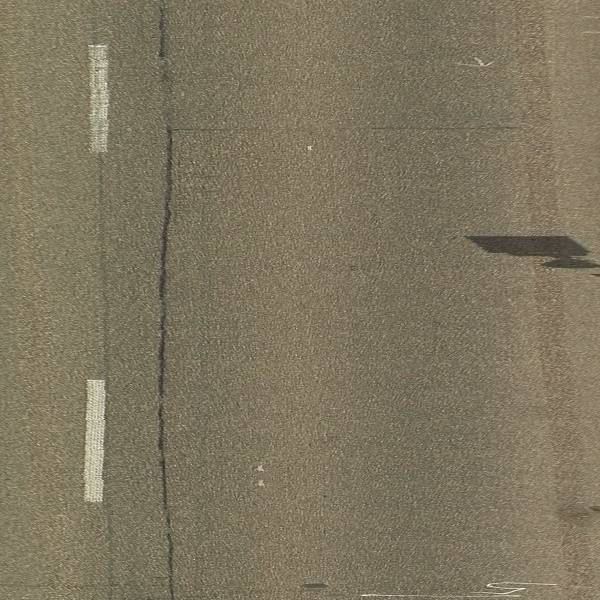road_damage: (154, 118, 528, 141)
